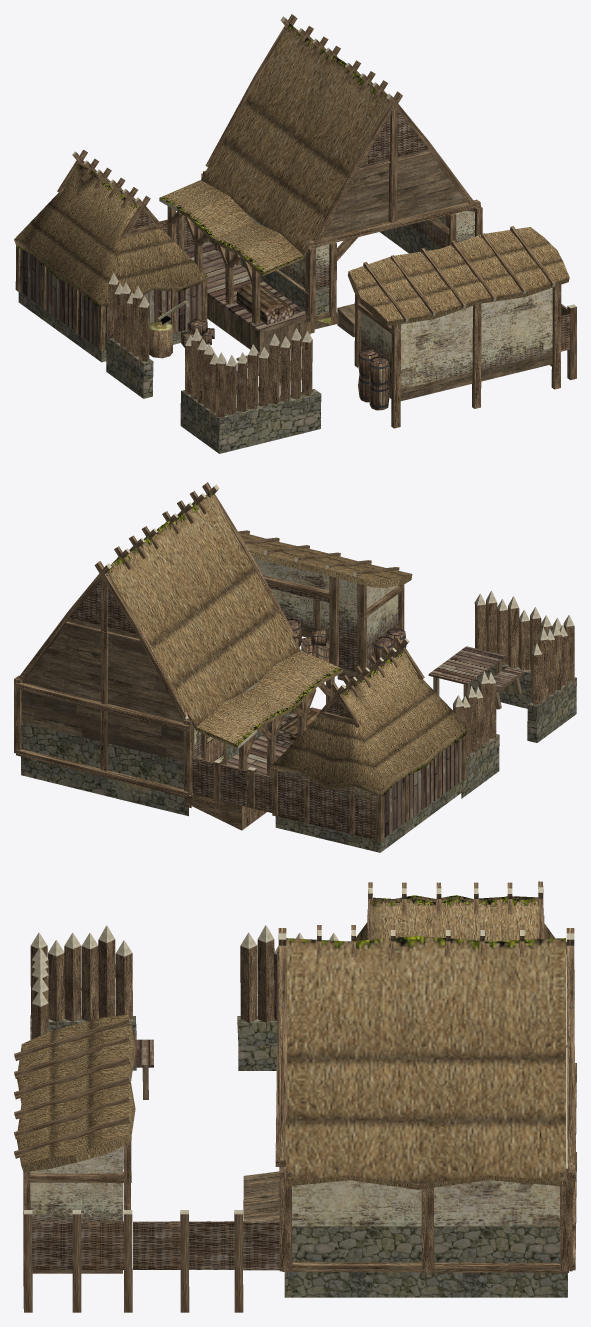
Rendered from arsenal.dae.
3 renders of one model, top to bottom at view 1: azimuth 30°, elevation 25°; view 2: azimuth 150°, elevation 25°; view 3: azimuth 270°, elevation 25°, orthographic. The views are drawn at different scales.
Visible parts, largest first — view 1: arsenal; view 2: arsenal; view 3: arsenal.
Part boxes in pixels (box(x1,y1,x2,y2)): arsenal: box(14, 14, 576, 453); arsenal: box(14, 482, 576, 852); arsenal: box(14, 881, 576, 1312).
Bounding box in the file's own units: 30.05 × 29.51 × 19.29.
